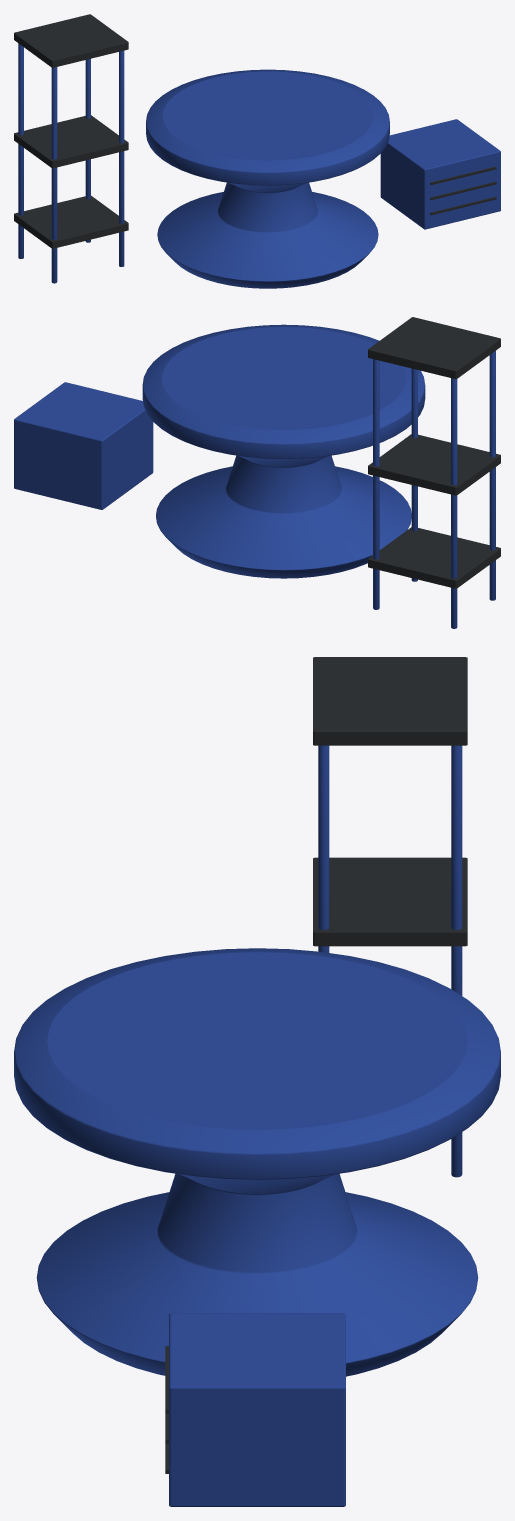
The picture shows the model from 3 angles, top to bottom: view 1: azimuth 30°, elevation 25°; view 2: azimuth 150°, elevation 25°; view 3: azimuth 270°, elevation 25°; orthographic projection. The views are drawn at different scales.
Parts seen in each view (by area): view 1: TI039 / exotic alloy table, TI039 / separate storage block, TI039 / shelf plane.002, TI039 / shelf plane.001, TI039 / shelf plane, TI039 / slender shelf leg, TI039 / slender shelf leg.002, TI039 / slender shelf leg.001, TI039 / slender shelf leg.003; view 2: TI039 / exotic alloy table, TI039 / separate storage block, TI039 / shelf plane.002, TI039 / shelf plane, TI039 / shelf plane.001, TI039 / slender shelf leg.001, TI039 / slender shelf leg.003, TI039 / slender shelf leg, TI039 / slender shelf leg.002; view 3: TI039 / exotic alloy table, TI039 / separate storage block, TI039 / shelf plane.002, TI039 / shelf plane.001, TI039 / slender shelf leg.003, TI039 / slender shelf leg.002.
Boxes of the visible parts, left/top/right/bottom form: TI039 / exotic alloy table: left=146, top=69, right=389, bottom=288; TI039 / separate storage block: left=380, top=119, right=500, bottom=229; TI039 / shelf plane.002: left=14, top=14, right=128, bottom=67; TI039 / shelf plane.001: left=14, top=115, right=128, bottom=168; TI039 / shelf plane: left=14, top=195, right=128, bottom=248; TI039 / slender shelf leg: left=51, top=67, right=57, bottom=283; TI039 / slender shelf leg.002: left=119, top=50, right=124, bottom=266; TI039 / slender shelf leg.001: left=18, top=43, right=23, bottom=258; TI039 / slender shelf leg.003: left=85, top=58, right=90, bottom=242; TI039 / exotic alloy table: left=142, top=324, right=425, bottom=578; TI039 / separate storage block: left=14, top=382, right=153, bottom=509; TI039 / shelf plane.002: left=368, top=317, right=500, bottom=379; TI039 / shelf plane: left=368, top=527, right=500, bottom=588; TI039 / shelf plane.001: left=368, top=434, right=500, bottom=495; TI039 / slender shelf leg.001: left=451, top=378, right=457, bottom=628; TI039 / slender shelf leg.003: left=373, top=359, right=379, bottom=609; TI039 / slender shelf leg: left=489, top=351, right=495, bottom=600; TI039 / slender shelf leg.002: left=411, top=368, right=417, bottom=581; TI039 / exotic alloy table: left=14, top=948, right=500, bottom=1376; TI039 / separate storage block: left=169, top=1313, right=345, bottom=1506; TI039 / shelf plane.002: left=313, top=657, right=467, bottom=745; TI039 / shelf plane.001: left=313, top=857, right=467, bottom=946; TI039 / slender shelf leg.003: left=451, top=745, right=462, bottom=1177; TI039 / slender shelf leg.002: left=318, top=745, right=329, bottom=952.
Bounding box in the file's own units: 4.3 × 2.24 × 2.2.
